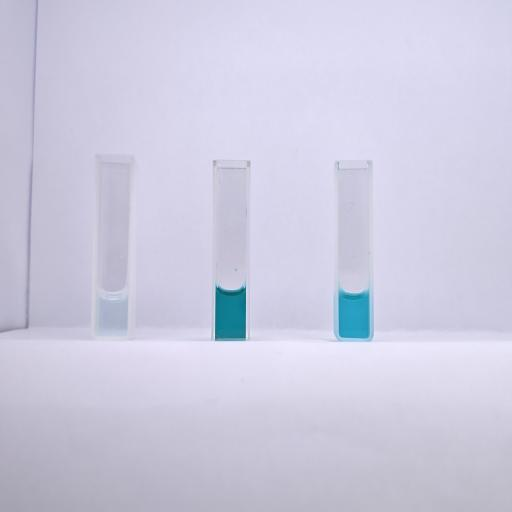cuvette: (92, 151, 136, 342), (332, 158, 376, 342), (210, 157, 252, 342)
liquid: (215, 284, 246, 338), (96, 289, 128, 337), (339, 289, 369, 338)
